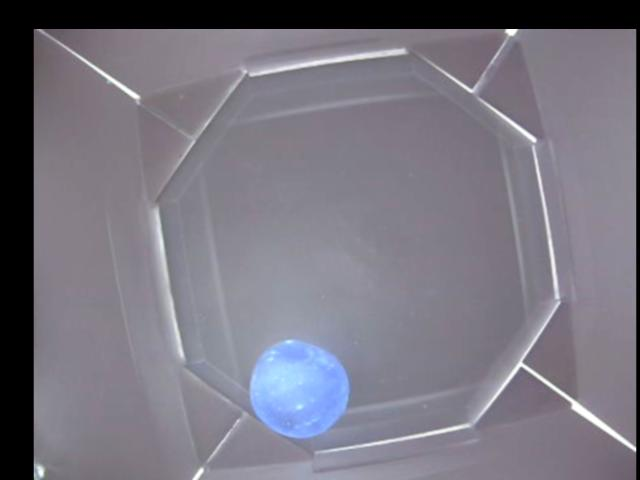Potato: (250, 337, 350, 446)
